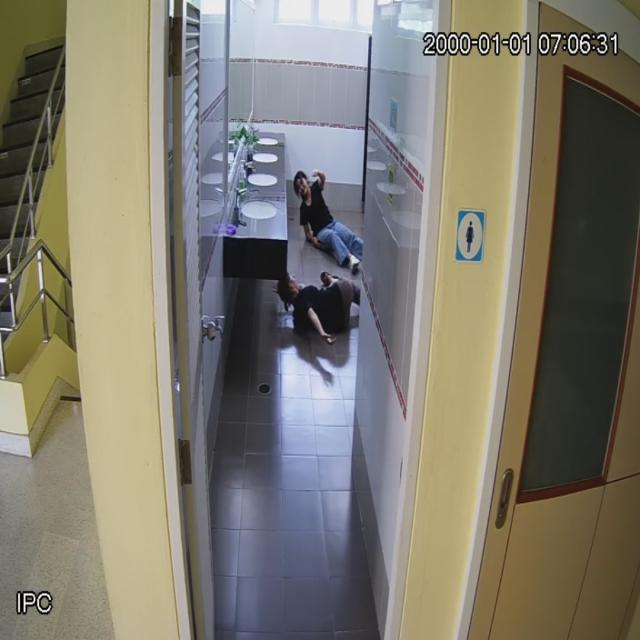fall: (293, 154, 371, 266), (277, 261, 371, 345)
